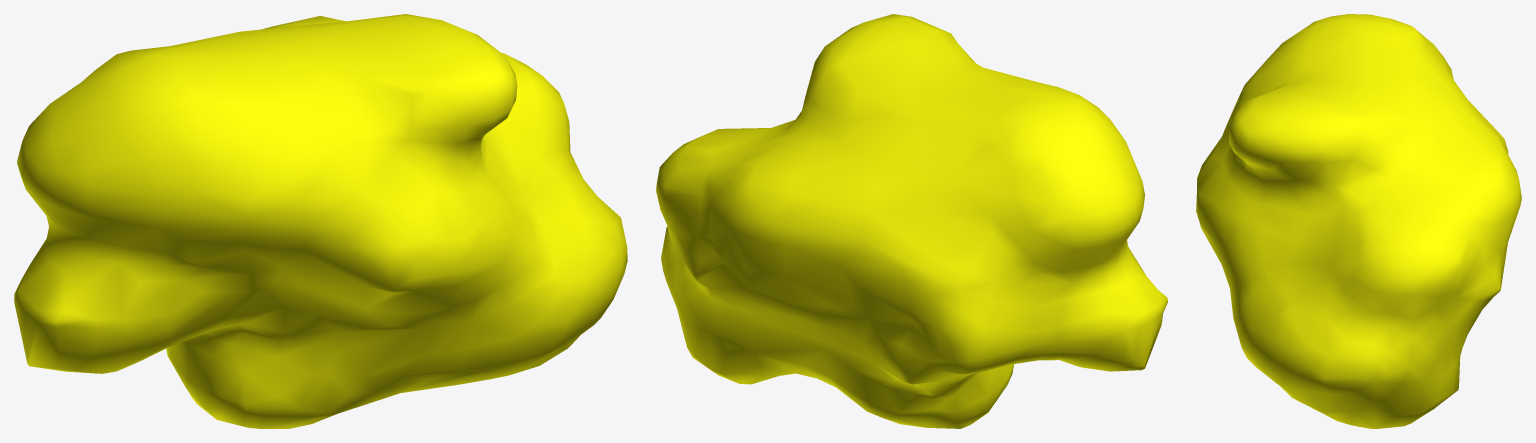
File: cloud_c.glb
The picture shows the model from 3 angles, left to right: view 1: azimuth 30°, elevation 25°; view 2: azimuth 150°, elevation 25°; view 3: azimuth 270°, elevation 25°; orthographic projection. The views are drawn at different scales.
Parts seen in each view (by area): view 1: SM_Cloud_03; view 2: SM_Cloud_03; view 3: SM_Cloud_03.
Boxes of the visible parts, x1,y1,x2,y2 form: SM_Cloud_03: [14, 14, 627, 428]; SM_Cloud_03: [656, 14, 1167, 428]; SM_Cloud_03: [1196, 14, 1521, 428].
Bounding box in the file's own units: 6.4 × 4.04 × 4.26.
